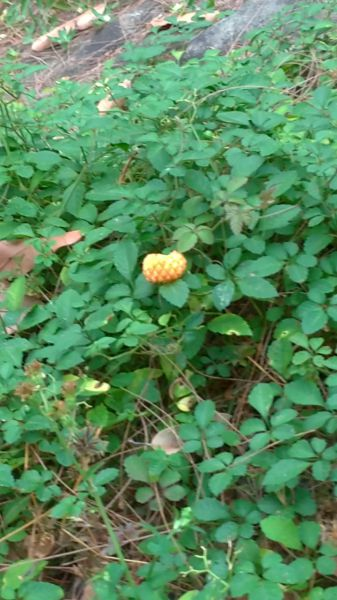eggs: (133, 244, 191, 288)
